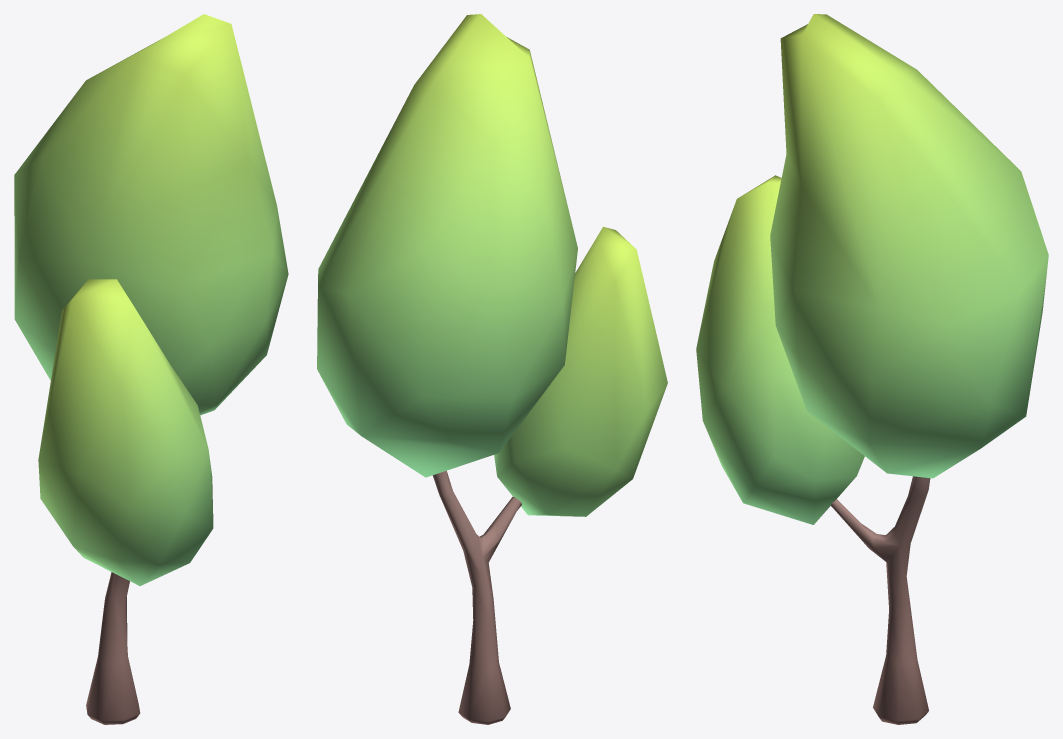
Rendered from Tree01_S_Green.fbx.
3 views of the same model, side by side, from view 1: azimuth 30°, elevation 25°; view 2: azimuth 150°, elevation 25°; view 3: azimuth 270°, elevation 25° (orthographic). The views are drawn at different scales.
Parts seen in each view (by area): view 1: Tree01_S_Green; view 2: Tree01_S_Green; view 3: Tree01_S_Green.
Boxes of the visible parts, x1,y1,x2,y2 form: Tree01_S_Green: (14,14,288,724); Tree01_S_Green: (317,14,667,724); Tree01_S_Green: (696,14,1048,724).
Bounding box in the file's own units: 4.09 × 9.85 × 4.34.
